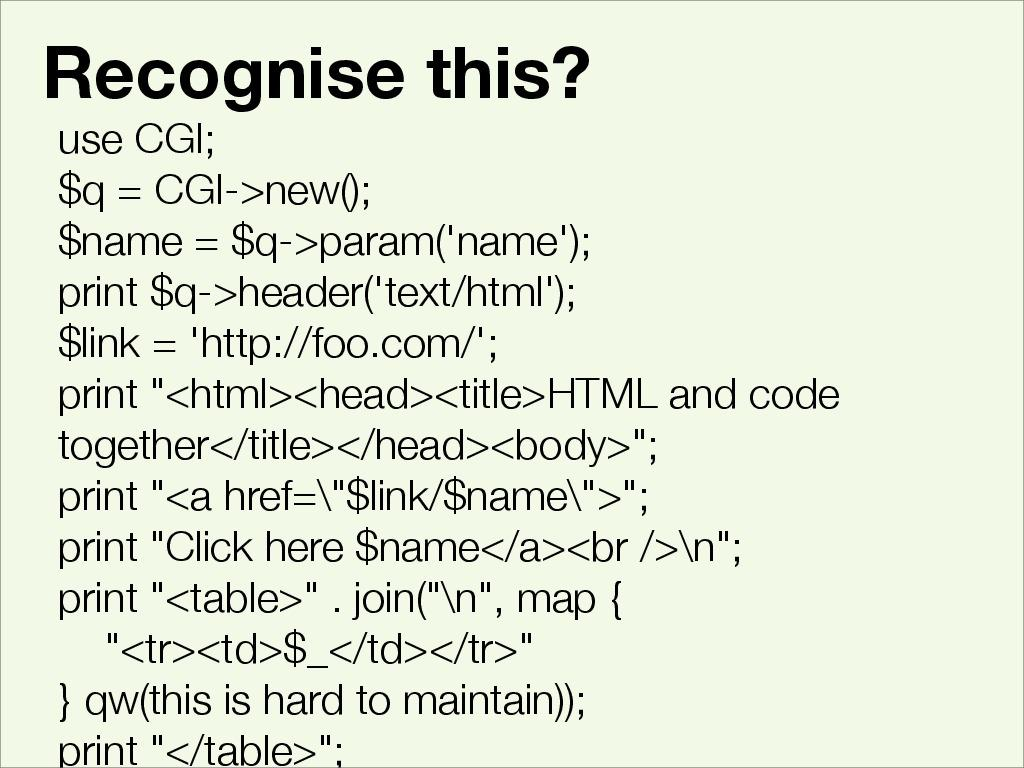paragraph: (48, 123, 890, 768)
title: (40, 27, 597, 115)
